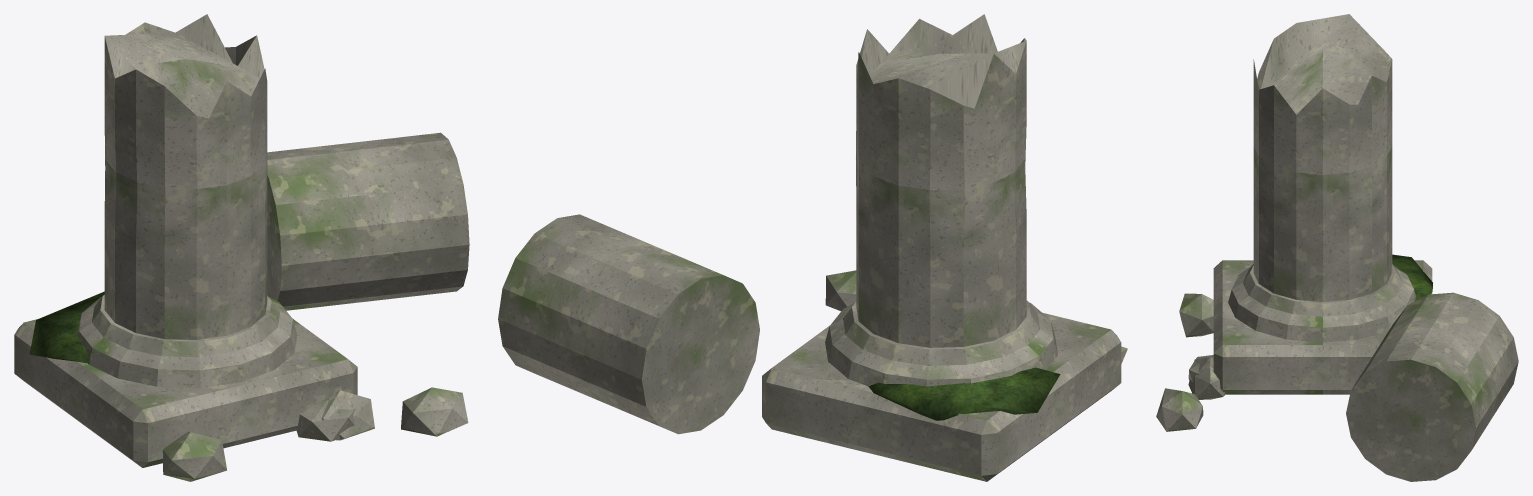
File: broken_pillar.glb
3 renders of one model, left to right at view 1: azimuth 30°, elevation 25°; view 2: azimuth 150°, elevation 25°; view 3: azimuth 270°, elevation 25°, orthographic. The views are drawn at different scales.
Parts seen in each view (by area): view 1: PillarShaft, PillarDrum, PillarMoss; view 2: PillarShaft, PillarDrum, PillarMoss; view 3: PillarShaft, PillarDrum, PillarMoss.
Boxes of the visible parts, <box> form: PillarShaft: <box>14,14,357,467</box>; PillarDrum: <box>162,132,469,481</box>; PillarMoss: <box>29,291,104,363</box>; PillarShaft: <box>762,14,1121,481</box>; PillarDrum: <box>498,214,1127,434</box>; PillarMoss: <box>868,367,1060,420</box>; PillarShaft: <box>1213,14,1432,394</box>; PillarDrum: <box>1156,292,1518,481</box>; PillarMoss: <box>1392,254,1432,301</box>.
Size of what is drawn, in the model's own units: 2.44 by 1.95 by 1.99.
2 materials, 2 textured.
